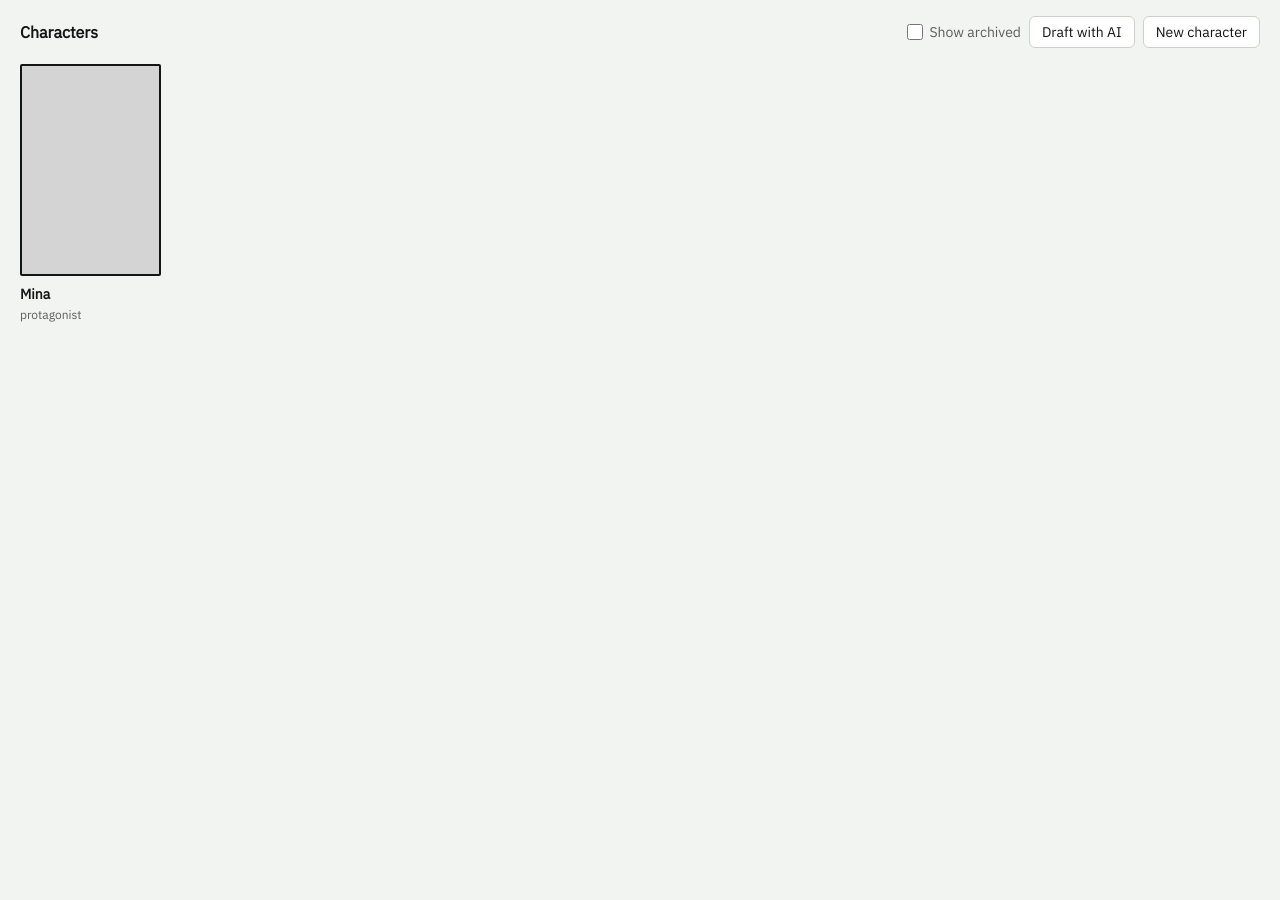
Test: CharacterStudio › character form › deletes after a confirmation and shows the refusal for a character in use
Click the text "Mina": (35, 294) [20,284,50,302]
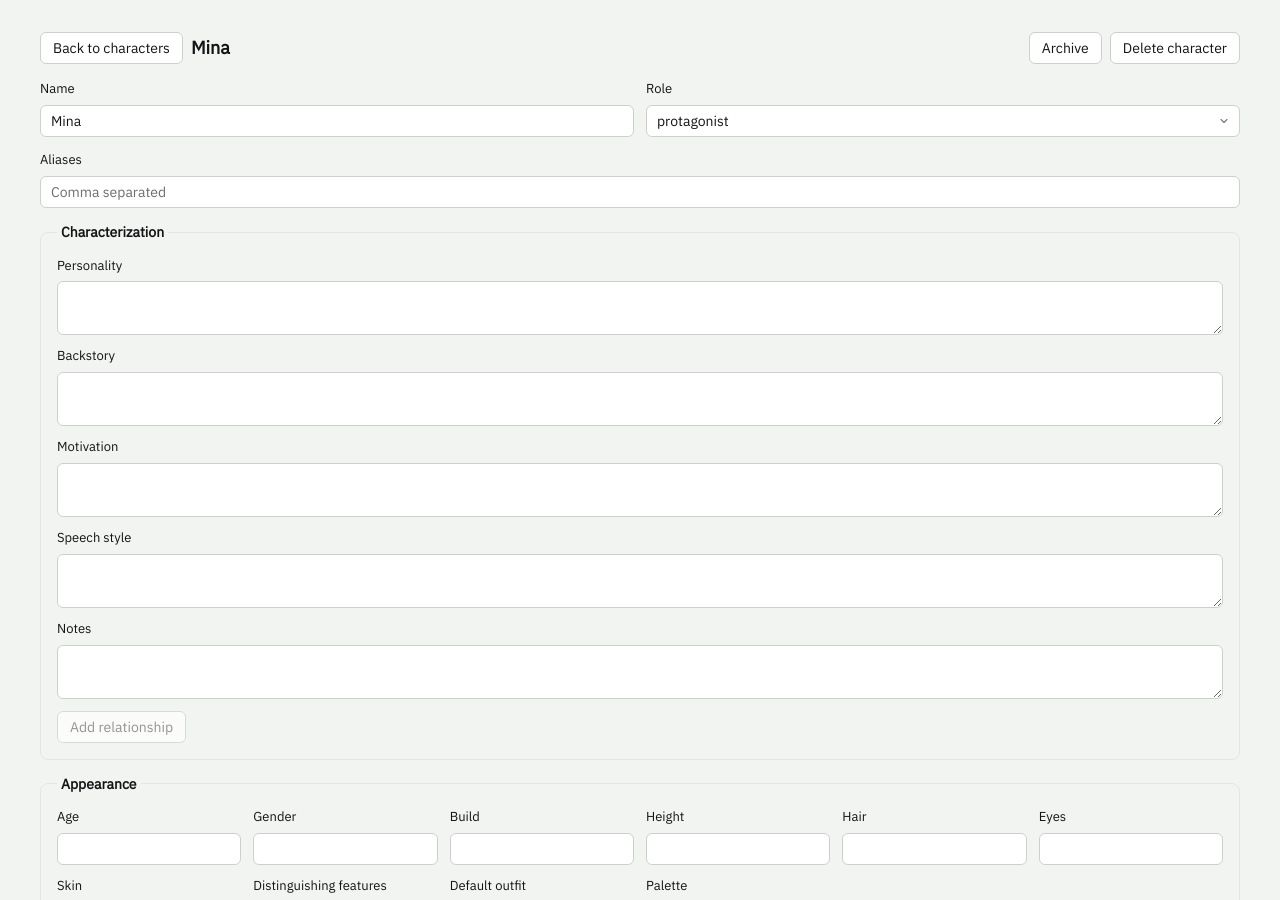
Click the button "Delete character": (1175, 48) [1110,32,1240,64]
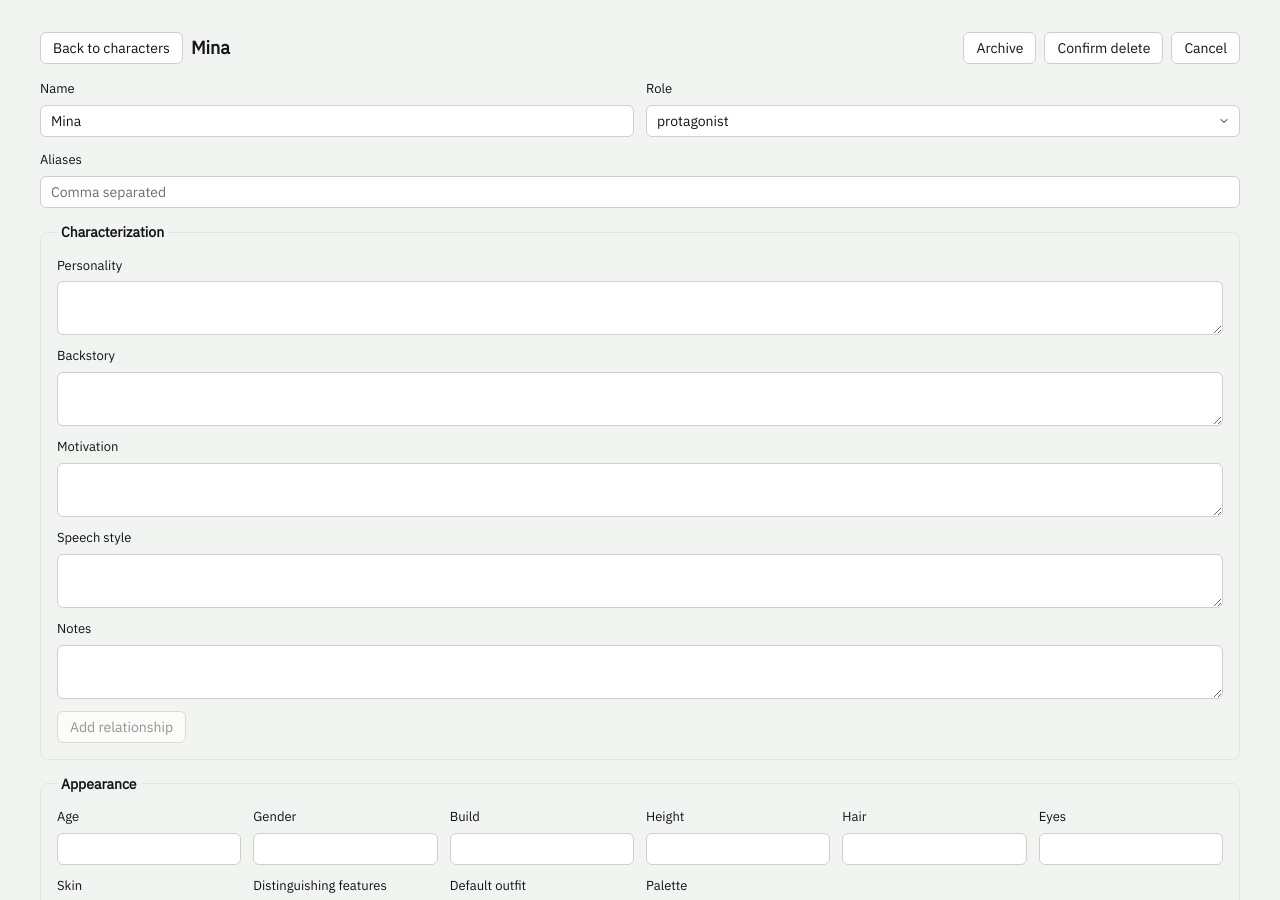
Click the button "Confirm delete": (1104, 48) [1044,32,1163,64]
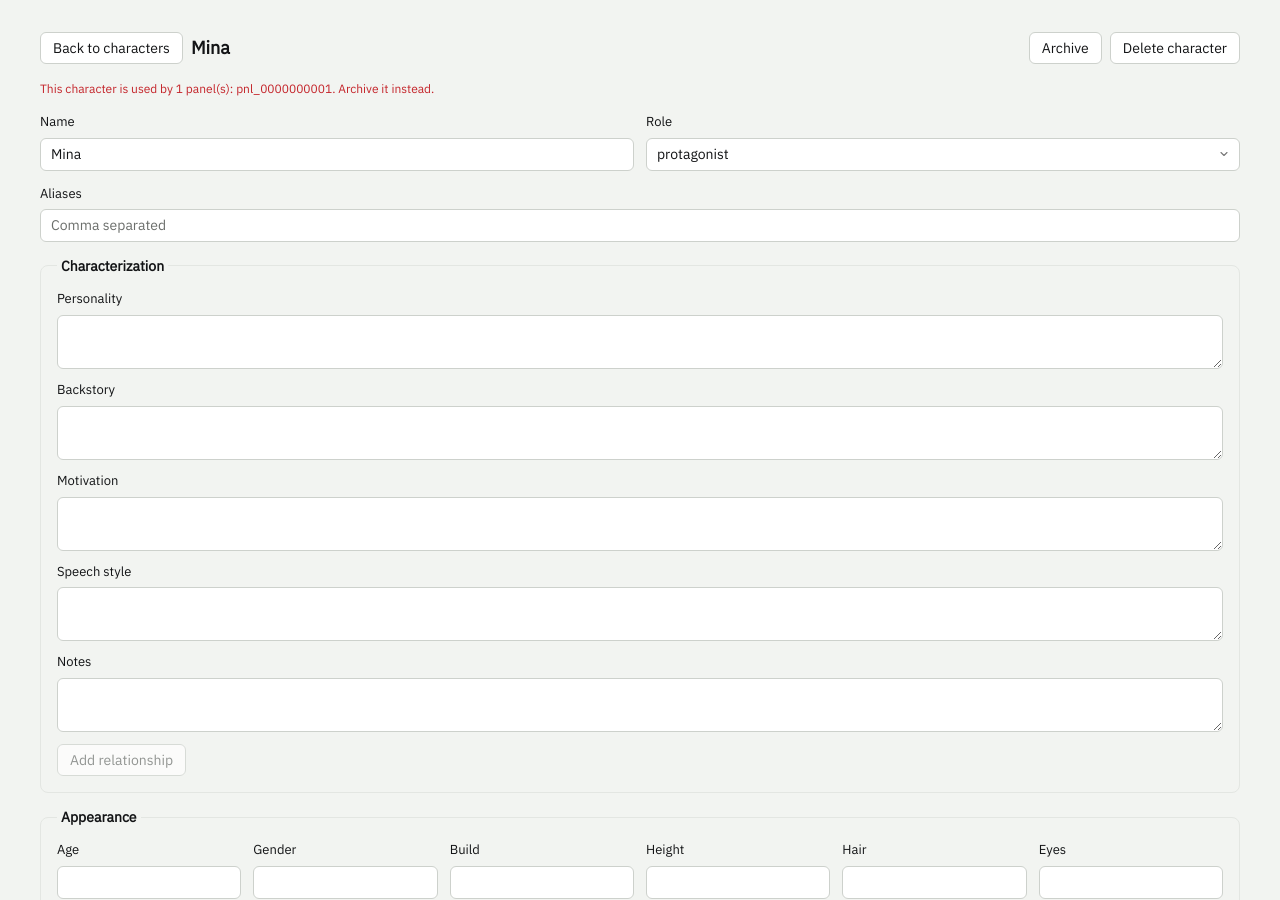
Now the message shows "Archive it instead.", box [40,81,434,96]
